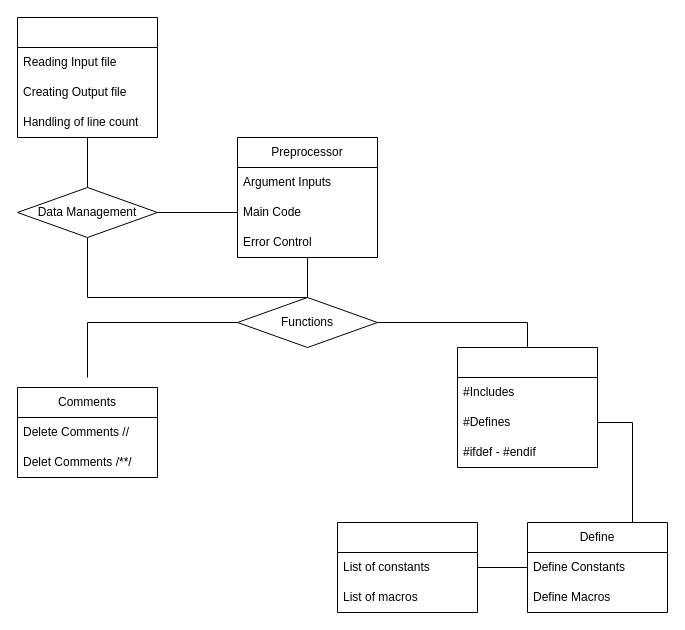
This 685x630 diagram has some shape labels left out. Here are the shapes that lost their labels. From the top down, the box of each, then its label:
(16, 16, 158, 138): File Managing
(456, 346, 598, 468): Directives
(336, 522, 478, 612): Data Structures
